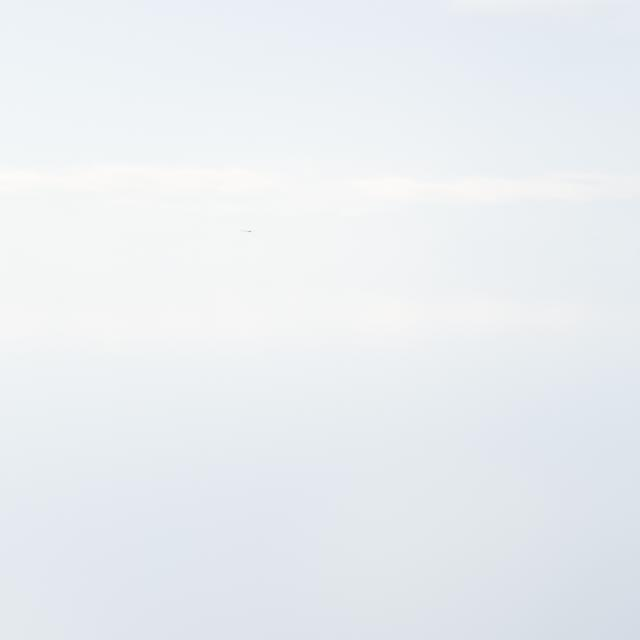Airaplan: (240, 229, 259, 232)
